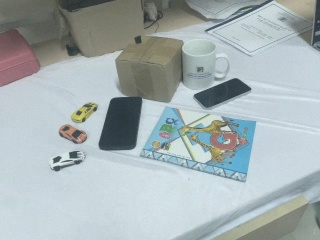book: (136, 104, 258, 184)
box: (54, 1, 144, 58), (116, 37, 184, 103)
cup: (181, 38, 218, 93)
phone: (96, 96, 143, 152), (193, 78, 252, 111)
toy_car: (58, 101, 99, 145), (49, 150, 85, 170), (59, 123, 88, 144), (71, 102, 99, 123)
